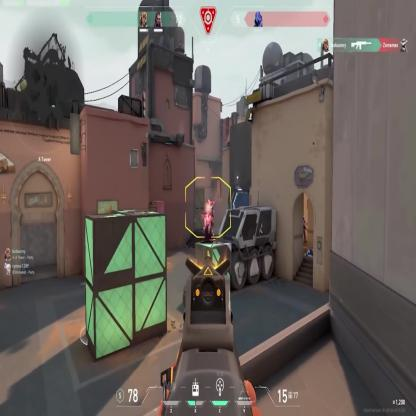enemy: (204, 204, 214, 235), (300, 215, 306, 243)
enemy_head: (206, 204, 211, 214)
